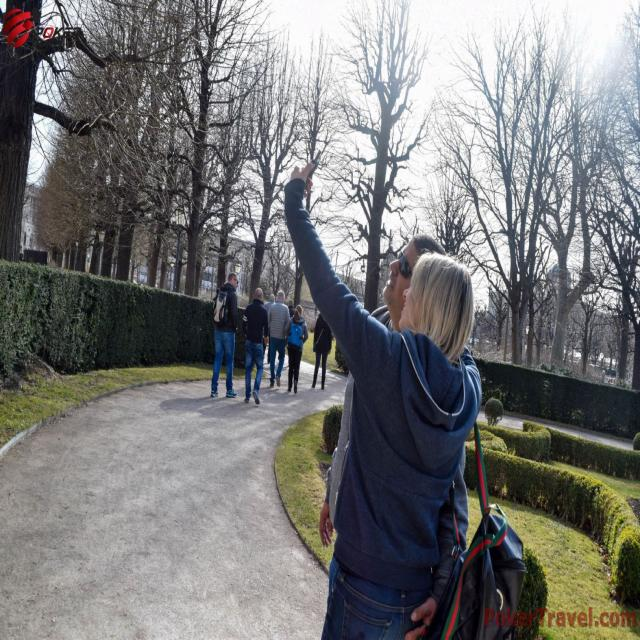body: (283, 152, 484, 640), (302, 226, 494, 640), (209, 270, 239, 399), (241, 286, 270, 406), (266, 288, 291, 390), (283, 302, 309, 394), (311, 312, 333, 389), (262, 293, 276, 364), (288, 299, 296, 318), (276, 352, 282, 364)
